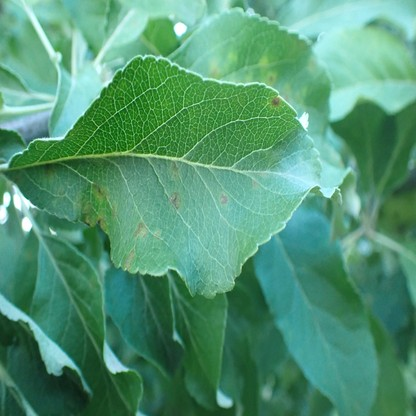scab: (75, 192, 92, 226), (90, 183, 108, 203), (95, 211, 108, 234), (168, 191, 181, 213), (295, 84, 307, 105), (169, 160, 181, 180), (282, 82, 293, 103), (209, 57, 219, 80), (134, 220, 147, 237), (124, 247, 135, 267), (306, 54, 318, 70), (265, 71, 277, 87), (43, 163, 55, 178), (108, 201, 118, 217), (259, 56, 268, 70), (270, 96, 280, 108), (226, 52, 236, 64), (219, 193, 228, 205), (244, 73, 252, 85), (252, 179, 260, 189), (153, 229, 161, 239)
